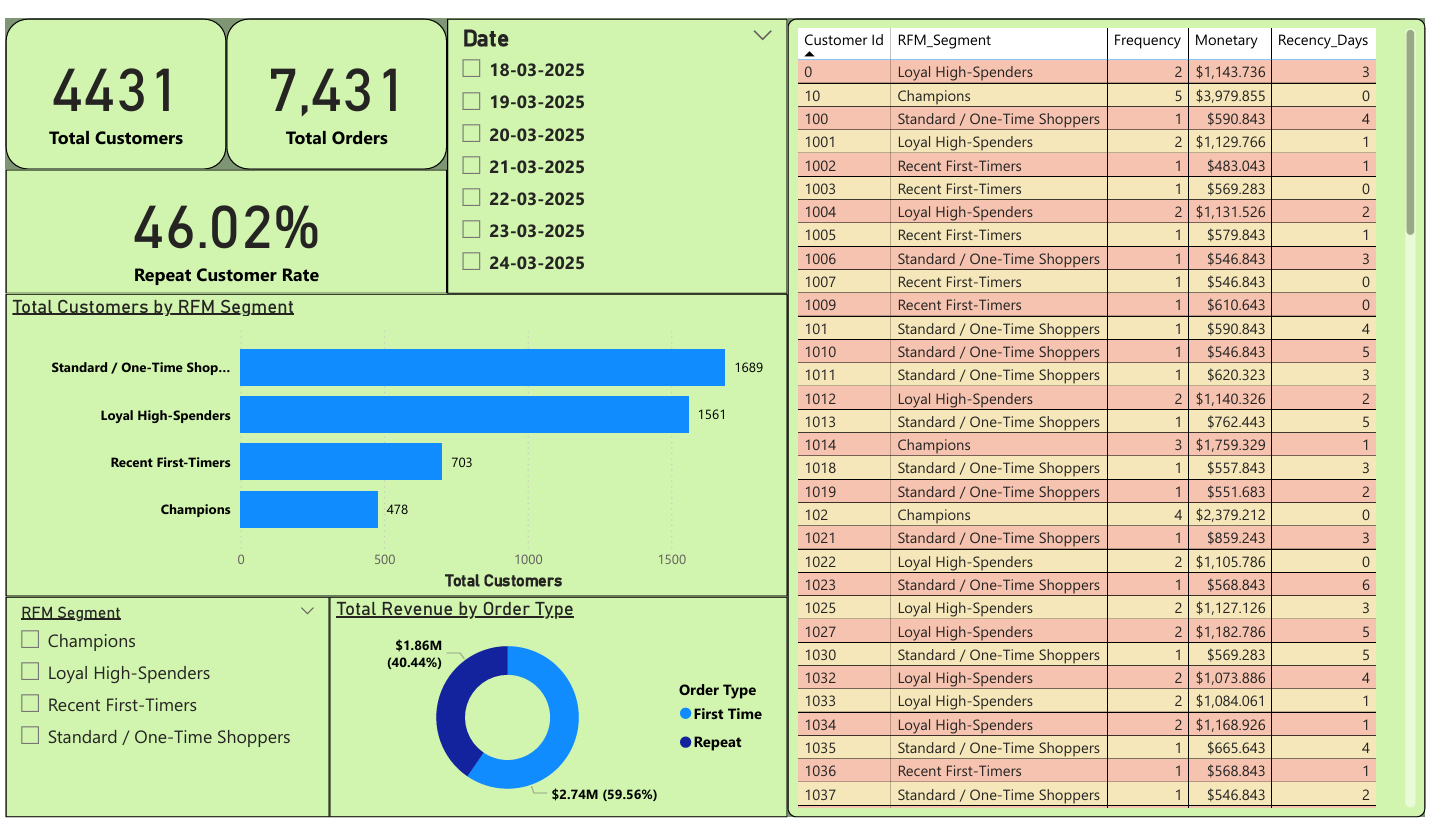

Layout of this report page (visuals, bound fields, positions):
{"tool":"powerbi","page":{"name":"CUSTOMER ANALYTICS & RFM","canvas":[1280,720],"ordinal":1},"visuals":[{"type":"card","fields":{"Values":["Measures (2).Total Customers"]},"box":[0,0,199.1,135.7],"z":0},{"type":"card","fields":{"Values":["Measures (2).Repeat Customer Rate"]},"box":[0,135.7,398.2,112.1],"z":1000},{"type":"card","fields":{"Values":["Measures (2).Total Orders"]},"box":[199.1,0,199.1,135.7],"z":2000},{"type":"clusteredBarChart","title":"Total Customers by RFM Segment","fields":{"Y":["Measures (2).Total Customers"],"Category":["Dim_Customers_RFM.RFM_Segment"]},"box":[0,247.8,705,272.9],"z":3000},{"type":"donutChart","fields":{"Category":["shopify_sales.Order Type"],"Y":["Measures (2).Total Revenue"]},"box":[292,520.7,413,199.1],"z":4000},{"type":"tableEx","fields":{"Values":["shopify_sales.Customer Id","Dim_Customers_RFM.RFM_Segment","Dim_Customers_RFM.Frequency","Dim_Customers_RFM.Monetary","Dim_Customers_RFM.Recency_Days"]},"box":[705,0,575.2,719.8],"z":5000},{"type":"slicer","fields":{"Values":["Dim_Customers_RFM.RFM_Segment"]},"box":[0,520.7,292,199.1],"z":6000},{"type":"slicer","fields":{"Values":["Dim_Date.Date"]},"box":[398.2,0,306.8,247.8],"z":7000}]}

Visuals, with their boxes in screenshot pixels (x1, y1, x2, y2), scaled from the page's 1280x720 canvas onto the 1432x822 screenshot:
card - Measures (2).Total Customers: bbox=[0, 0, 223, 155]
card - Measures (2).Repeat Customer Rate: bbox=[0, 155, 445, 283]
card - Measures (2).Total Orders: bbox=[223, 0, 445, 155]
"Total Customers by RFM Segment" clusteredBarChart: bbox=[0, 283, 789, 594]
donutChart - shopify_sales.Order Type x Measures (2).Total Revenue: bbox=[327, 594, 789, 821]
tableEx - shopify_sales.Customer Id x Dim_Customers_RFM.RFM_Segment: bbox=[789, 0, 1431, 821]
slicer - Dim_Customers_RFM.RFM_Segment: bbox=[0, 594, 327, 821]
slicer - Dim_Date.Date: bbox=[445, 0, 789, 283]
